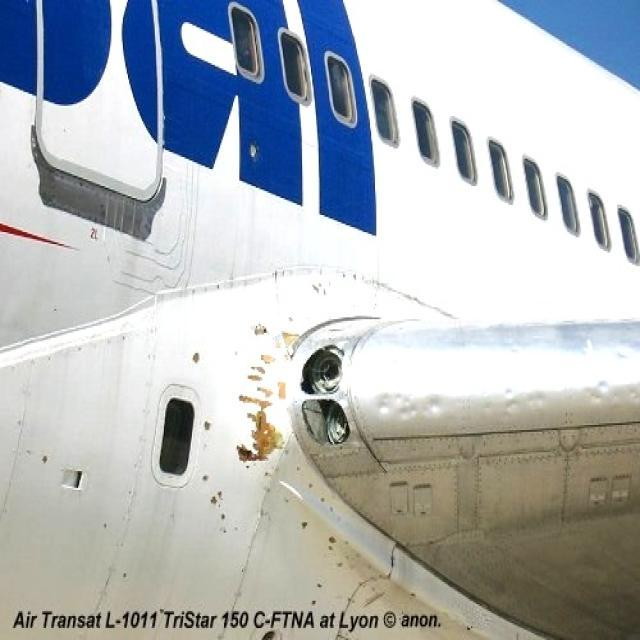dent: (373, 378, 640, 426)
